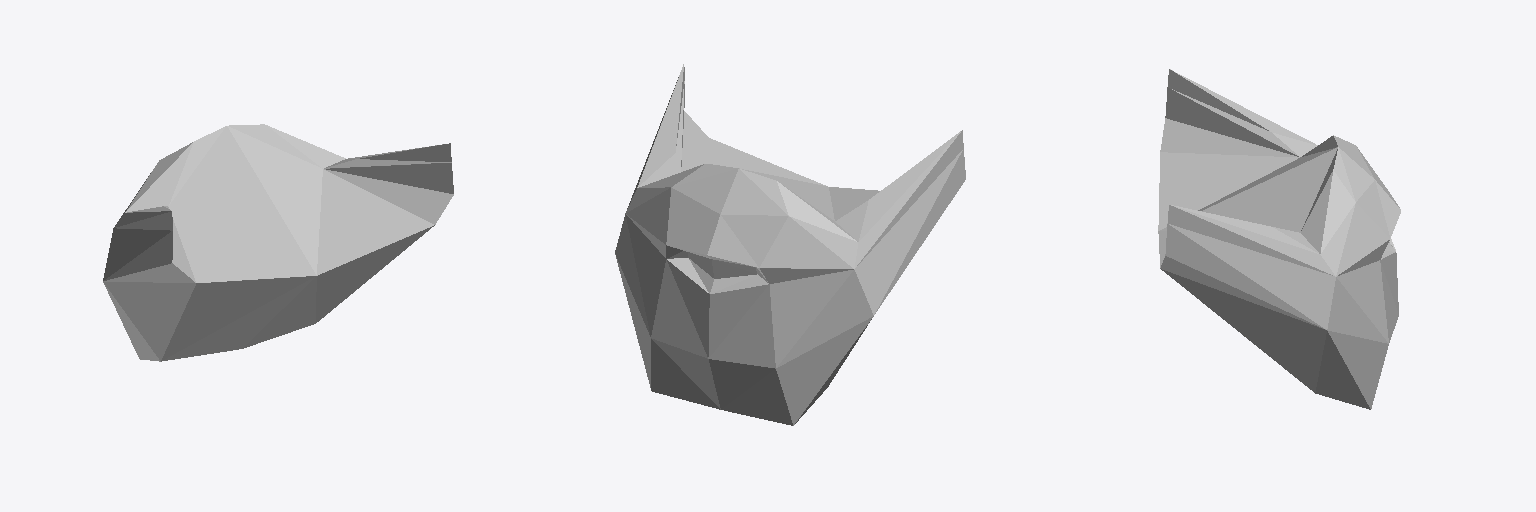
The model's file is beard_christmas_2022.sgm.obj.
3 views of the same model, side by side, from view 1: azimuth 30°, elevation 25°; view 2: azimuth 150°, elevation 25°; view 3: azimuth 270°, elevation 25° (orthographic).
Size of the model in its own units: 0.4461 by 0.3615 by 0.3337.